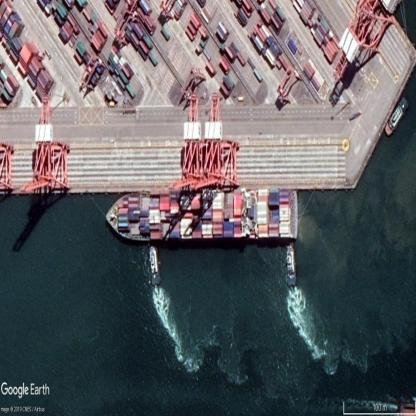ship: (105, 192, 298, 242), (385, 97, 409, 135), (148, 246, 158, 274), (286, 245, 294, 276)
